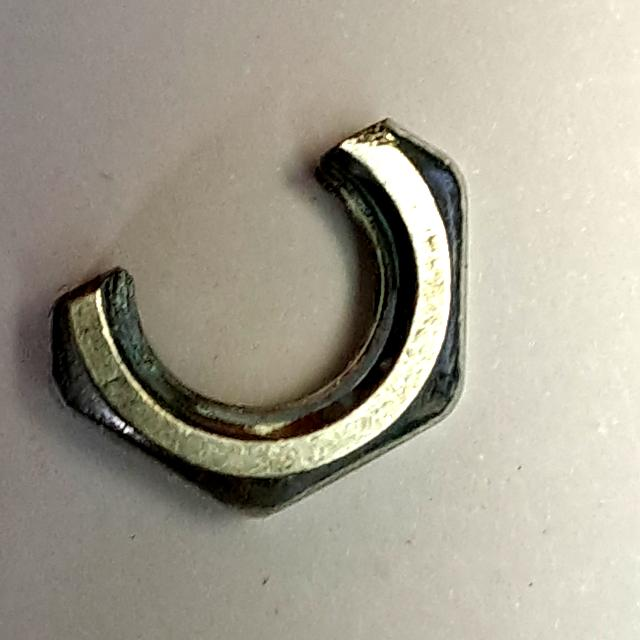Fracture: (36, 106, 477, 531)
